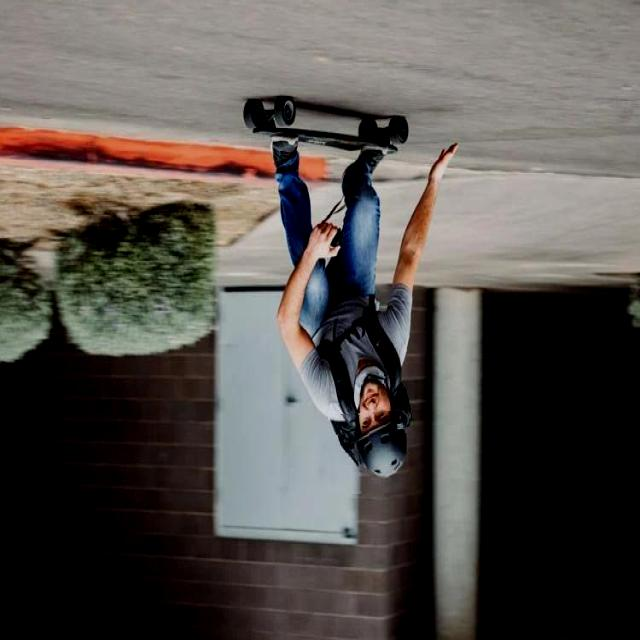helmet: (328, 411, 429, 494)
